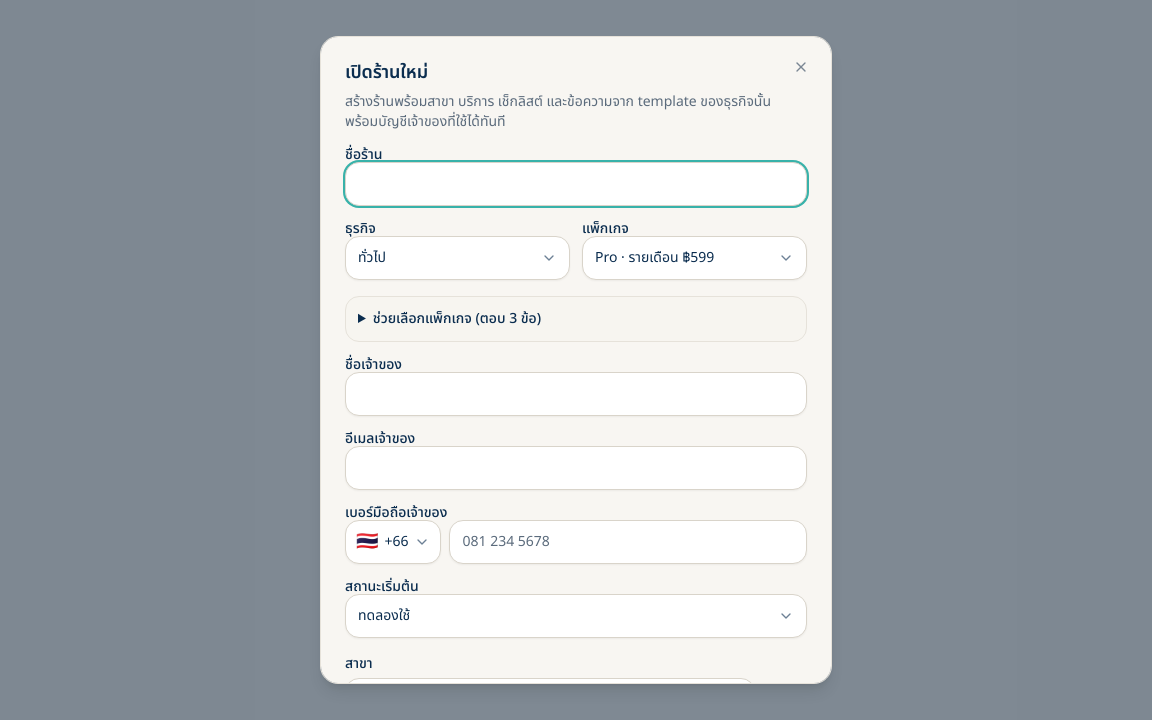
OnboardDialog › refuses to submit without a valid mobile
Type "ร้านดอกไม้" into the field labelled "ชื่อร้าน" at [576, 184], box [345,162,807,206]
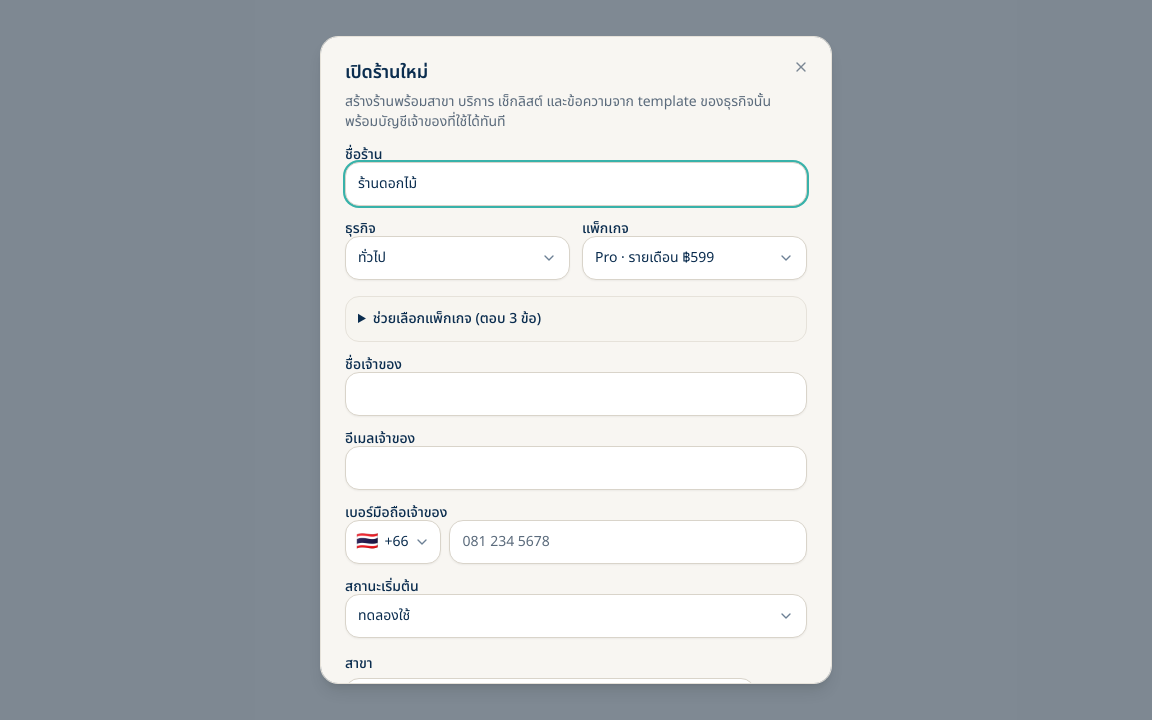
Type "owner@shop.test" into the field labelled "อีเมลเจ้าของ" at [576, 468], box [345,446,807,490]
(page scrolled)
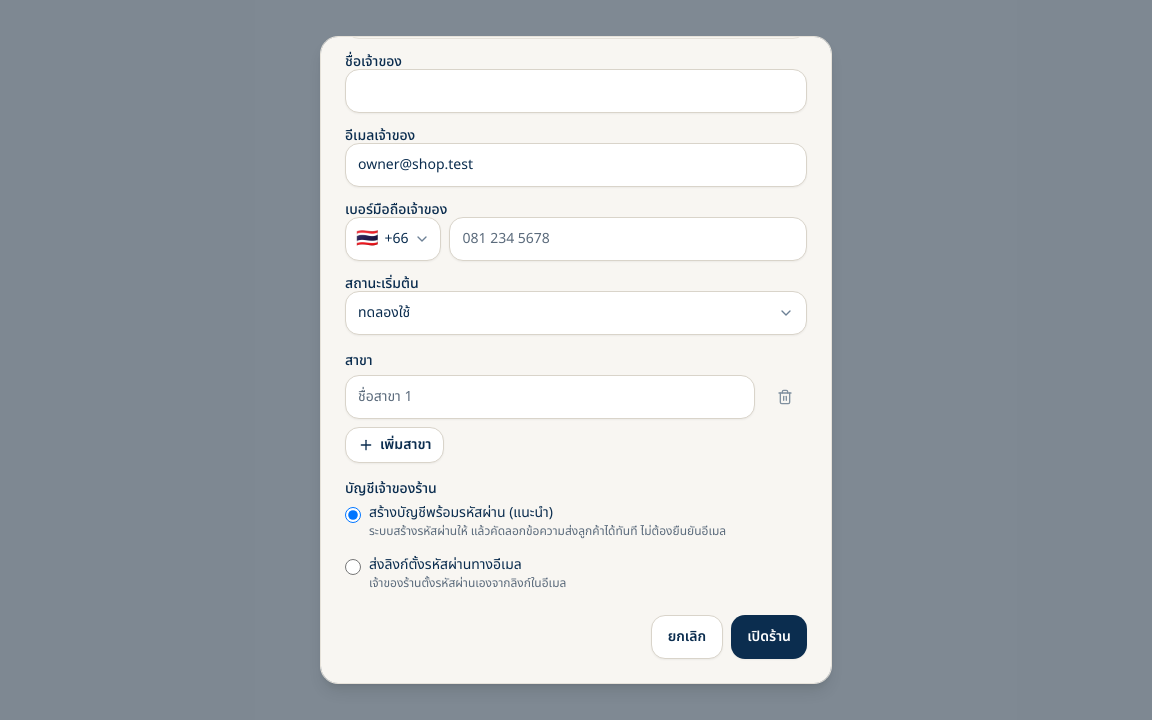
Type "สาขาหลัก" into the field labelled "ชื่อสาขา 1" at [550, 397], box [345,375,755,419]
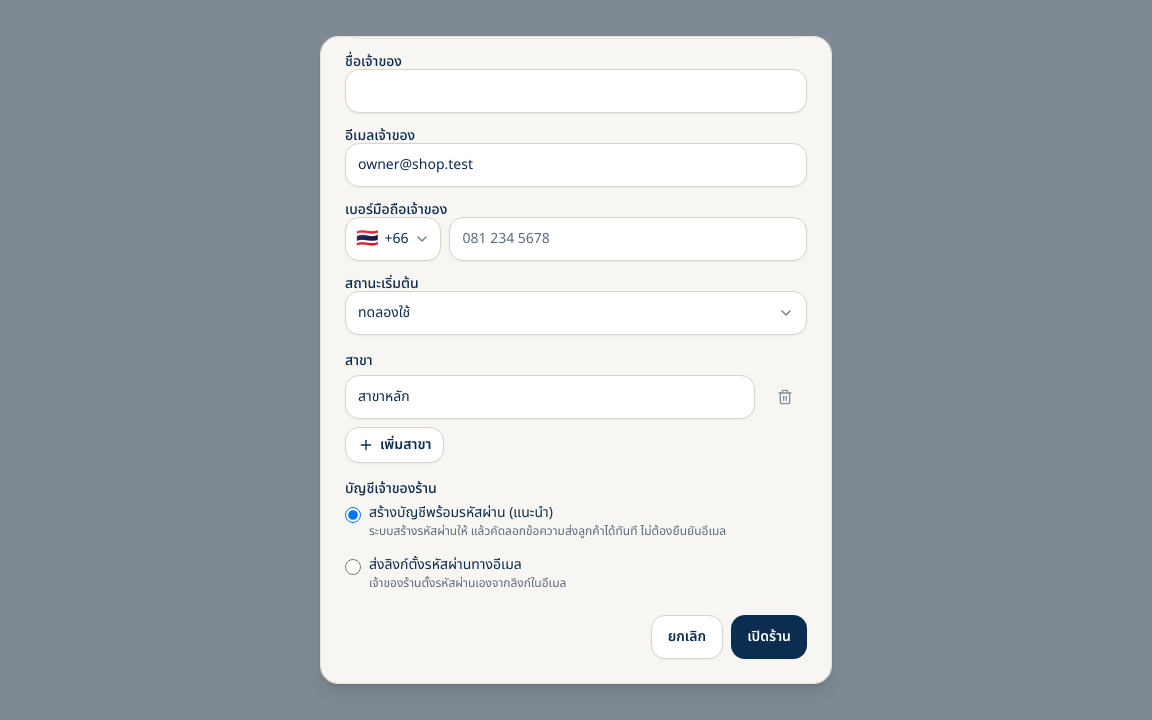
Click the button "เปิดร้าน" at [769, 637], box [731,615,807,659]
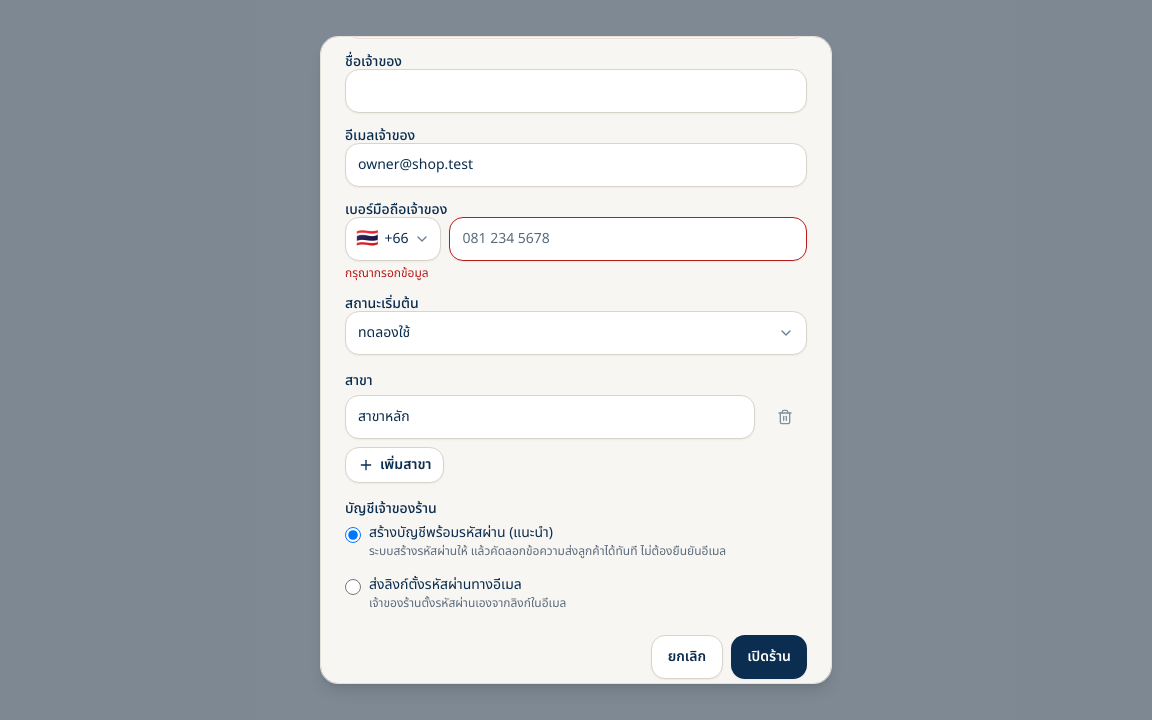
Now the text "กรุณากรอกข้อมูล" is shown, box [345,264,429,282]
